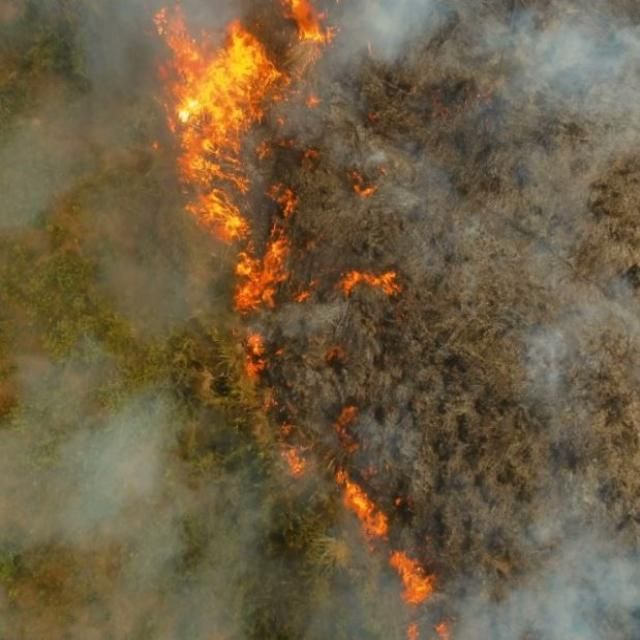Fire: (152, 4, 334, 388), (281, 445, 441, 640)
Smoke: (0, 349, 260, 640), (0, 0, 152, 217), (331, 0, 640, 92), (456, 513, 640, 640)
